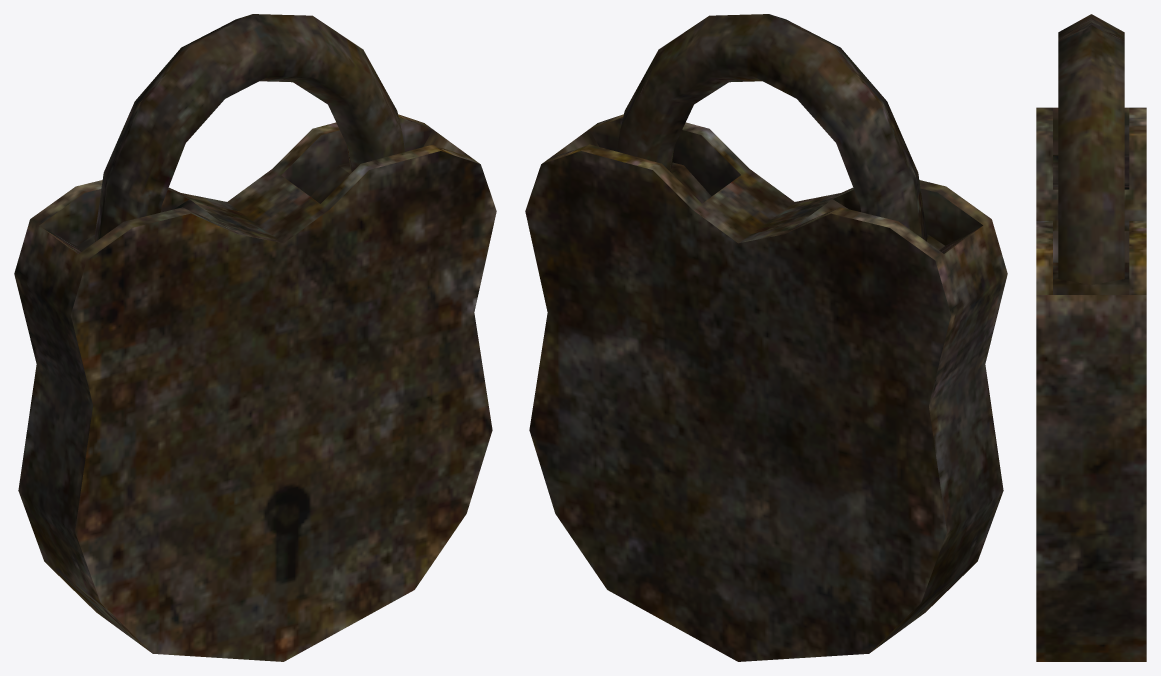
The model's file is padlock_rusty.dae.
3 renders of one model, left to right at view 1: azimuth 30°, elevation 25°; view 2: azimuth 150°, elevation 25°; view 3: azimuth 270°, elevation 25°, orthographic. The views are drawn at different scales.
Parts seen in each view (by area): view 1: polySurface1; view 2: polySurface1; view 3: polySurface1.
Boxes of the visible parts, x1,y1,x2,y2 form: polySurface1: [14, 14, 496, 661]; polySurface1: [525, 14, 1007, 661]; polySurface1: [1036, 14, 1146, 661].
Bounding box in the file's own units: 0.2758 × 0.3886 × 0.0634.
